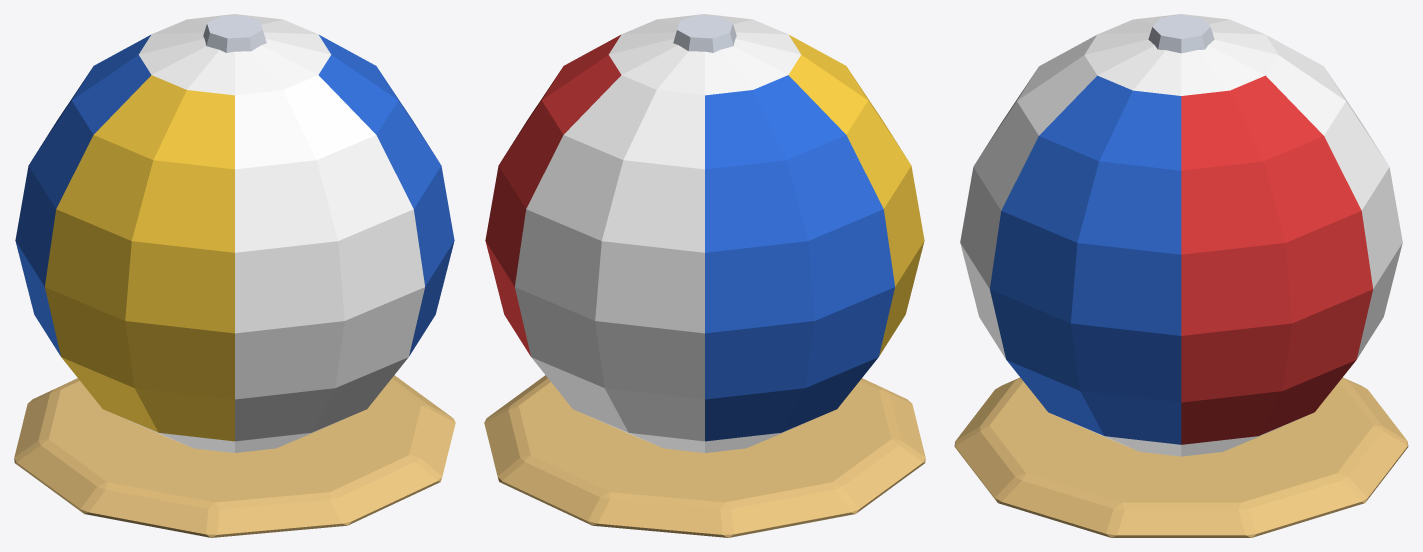
Rendered from beach-ball-1x1.glb.
The picture shows the model from 3 angles, left to right: view 1: azimuth 30°, elevation 25°; view 2: azimuth 150°, elevation 25°; view 3: azimuth 270°, elevation 25°; orthographic projection.
Visible parts, largest first — view 1: beach-ball-1x1; view 2: beach-ball-1x1; view 3: beach-ball-1x1.
Part boxes in pixels (x1,y1,x2,y2): beach-ball-1x1: [14, 14, 455, 537]; beach-ball-1x1: [484, 14, 925, 537]; beach-ball-1x1: [954, 14, 1408, 537].
Bounding box in the file's own units: 0.8775 × 0.9185 × 0.9.
1 material, 1 textured.
